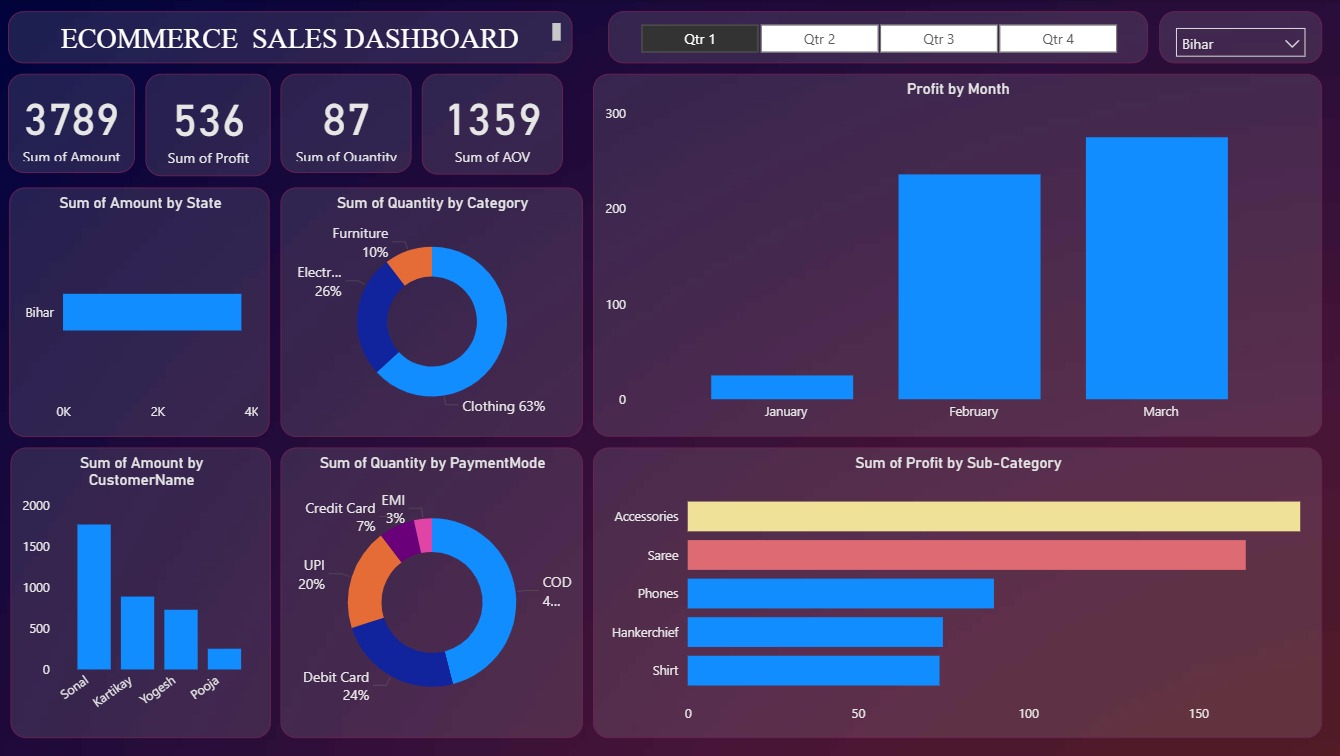

This screenshot's page, from the dashboard's own definition file:
{"tool":"powerbi","page":{"name":"Page 1","canvas":[1280,720],"ordinal":0},"visuals":[{"type":"textbox","box":[9.6,11,537.9,49.4],"z":0},{"type":"columnChart","title":"Profit by Month","fields":{"Category":["Orders.Order Date.Variation.Date Hierarchy.Month"],"Y":["Sum(Details.Profit)"]},"box":[566.7,70,694.3,345.8],"z":1000},{"type":"barChart","fields":{"Category":["Details.Sub-Category"],"Y":["Sum(Details.Profit)"]},"box":[566.7,426.8,694.3,277.2],"z":1001},{"type":"donutChart","fields":{"Category":["Details.Category"],"Y":["Sum(Details.Quantity)"]},"box":[269,178.4,288.2,237.4],"z":1002},{"type":"donutChart","fields":{"Y":["Sum(Details.Quantity)"],"Category":["Details.PaymentMode"]},"box":[269,426.8,288.2,277.2],"z":1003},{"type":"card","fields":{"Values":["Sum(Details.Amount)"]},"box":[9.6,70,120.8,94.7],"z":1004},{"type":"card","fields":{"Values":["Sum(Details.Quantity)"]},"box":[269,70,124.9,94.7],"z":1005},{"type":"card","fields":{"Values":["Sum(Details.Profit)"]},"box":[140,70,119.4,97.4],"z":1006},{"type":"card","fields":{"Values":["Sum(Details.AOV)"]},"box":[403.4,70,134.5,96.1],"z":1007},{"type":"barChart","fields":{"Category":["Orders.State"],"Y":["Sum(Details.Amount)"]},"box":[11,178.4,248.4,237.4],"z":1008},{"type":"columnChart","fields":{"Category":["Orders.CustomerName"],"Y":["Sum(Details.Amount)"]},"box":[12.3,426.8,248.4,277.2],"z":1009},{"type":"slicer","fields":{"Values":["Orders.Order Date.Variation.Date Hierarchy.Quarter"]},"box":[580.4,11,514.6,49.4],"z":1010},{"type":"slicer","fields":{"Values":["Orders.State"]},"box":[1106,11,155.1,49.4],"z":1011}]}

Visuals, with their boxes in screenshot pixels (x1, y1, x2, y2), scaled from the page's 1280x720 canvas onto the 1340x756 screenshot:
textbox: select_region(10, 12, 573, 63)
"Profit by Month" columnChart: select_region(593, 74, 1320, 437)
barChart - Details.Sub-Category x Sum(Details.Profit): select_region(593, 448, 1320, 739)
donutChart - Details.Category x Sum(Details.Quantity): select_region(282, 187, 583, 437)
donutChart - Sum(Details.Quantity) x Details.PaymentMode: select_region(282, 448, 583, 739)
card - Sum(Details.Amount): select_region(10, 74, 137, 173)
card - Sum(Details.Quantity): select_region(282, 74, 412, 173)
card - Sum(Details.Profit): select_region(147, 74, 272, 176)
card - Sum(Details.AOV): select_region(422, 74, 563, 174)
barChart - Orders.State x Sum(Details.Amount): select_region(12, 187, 272, 437)
columnChart - Orders.CustomerName x Sum(Details.Amount): select_region(13, 448, 273, 739)
slicer - Orders.Order Date.Variation.Date Hierarchy.Quarter: select_region(608, 12, 1146, 63)
slicer - Orders.State: select_region(1158, 12, 1320, 63)
